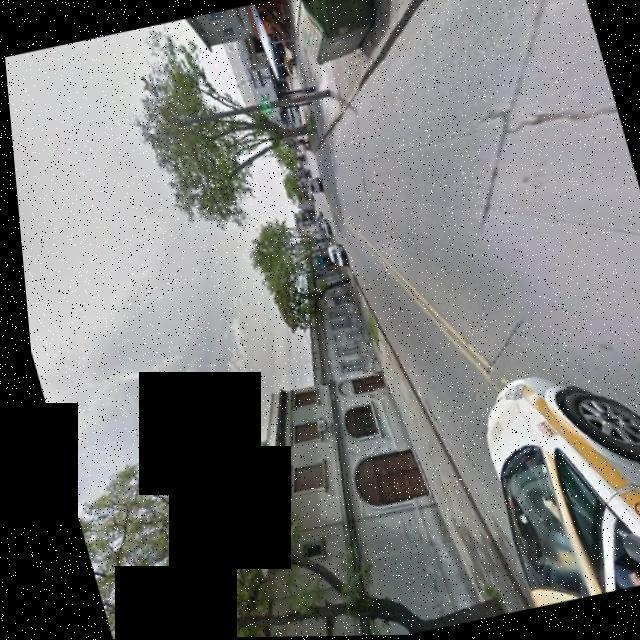bin: (277, 0, 404, 76)
